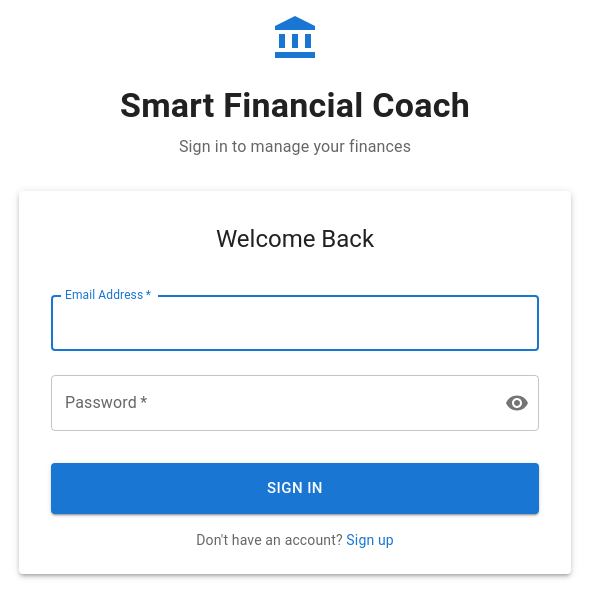
Test: Login Component › shows loading spinner during login
Type "test@example.com" into the field labelled "Email Address *" at [295, 323], box [51,295,539,351]
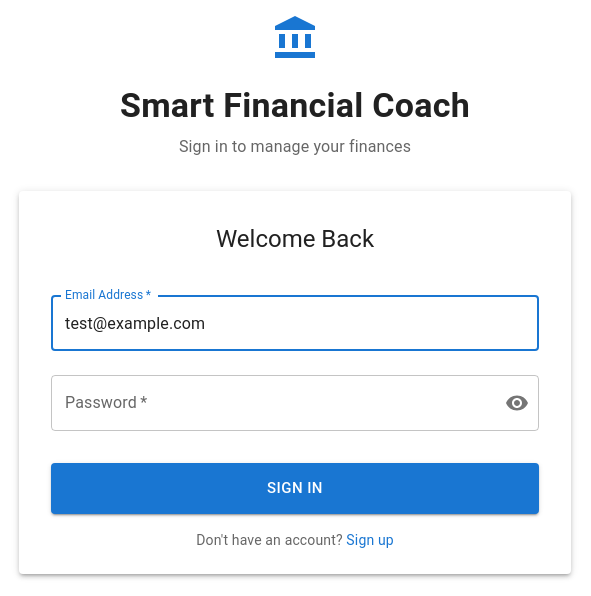
Type "password123" into the password field labelled "Password *" at [270, 403], box [51,375,489,431]
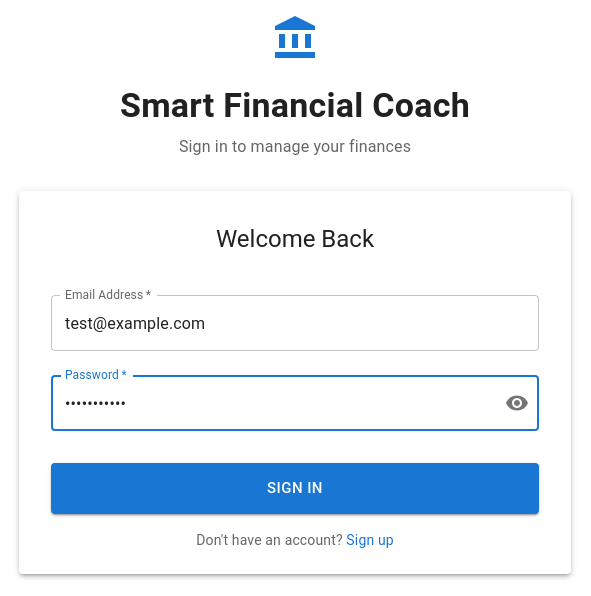
Click the button "Sign In" at [295, 489], box [51,463,539,514]
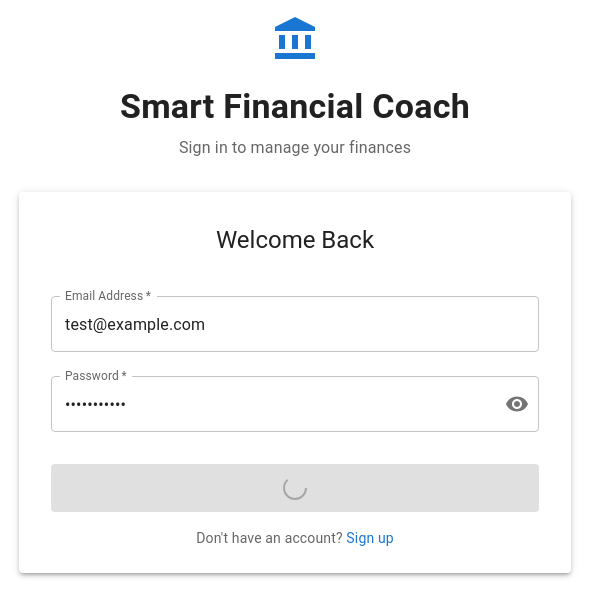
expect the progress indicator is shown: met, box [283,476,307,500]
